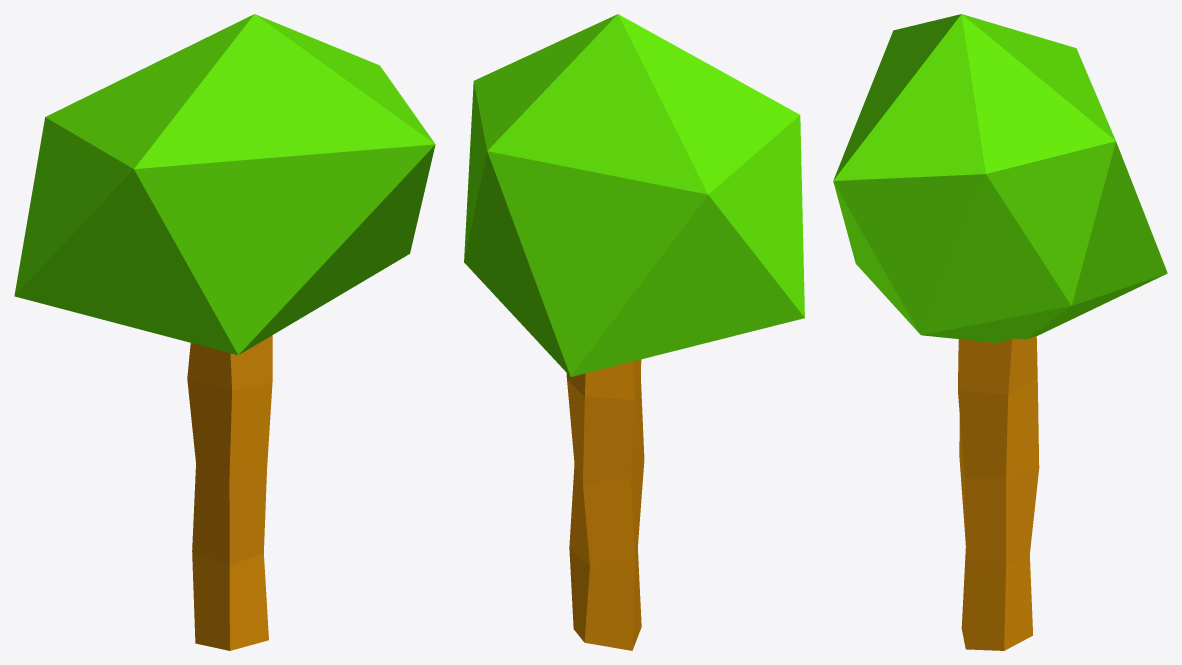
The model's file is tree5.glb.
3 renders of one model, left to right at view 1: azimuth 30°, elevation 25°; view 2: azimuth 150°, elevation 25°; view 3: azimuth 270°, elevation 25°, orthographic. The views are drawn at different scales.
Parts seen in each view (by area): view 1: Icosphere.003, Tree.003; view 2: Icosphere.003, Tree.003; view 3: Icosphere.003, Tree.003.
Boxes of the visible parts, x1=… form: Icosphere.003: x1=14, y1=14, x2=435, y2=355; Tree.003: x1=187, y1=335, x2=272, y2=650; Icosphere.003: x1=464, y1=14, x2=804, y2=376; Tree.003: x1=566, y1=359, x2=644, y2=650; Icosphere.003: x1=833, y1=14, x2=1167, y2=342; Tree.003: x1=958, y1=336, x2=1039, y2=650.
Size of the model in its own units: 1.34 by 2.3 by 1.1.
